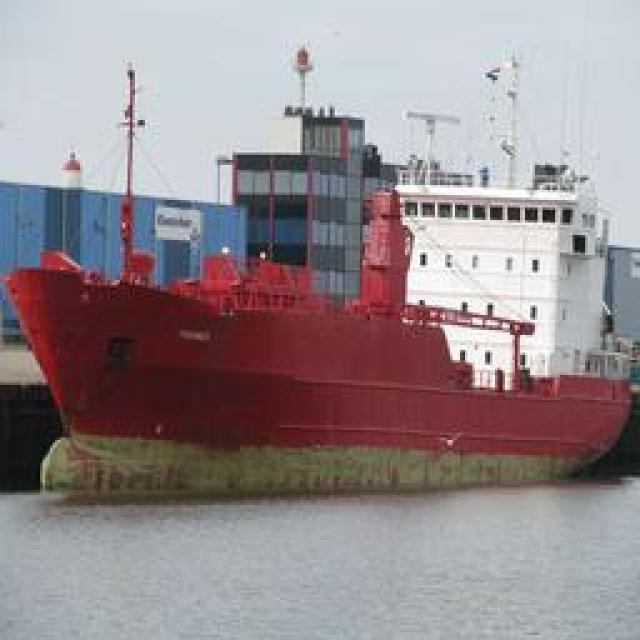ship2: (6, 61, 633, 494)
